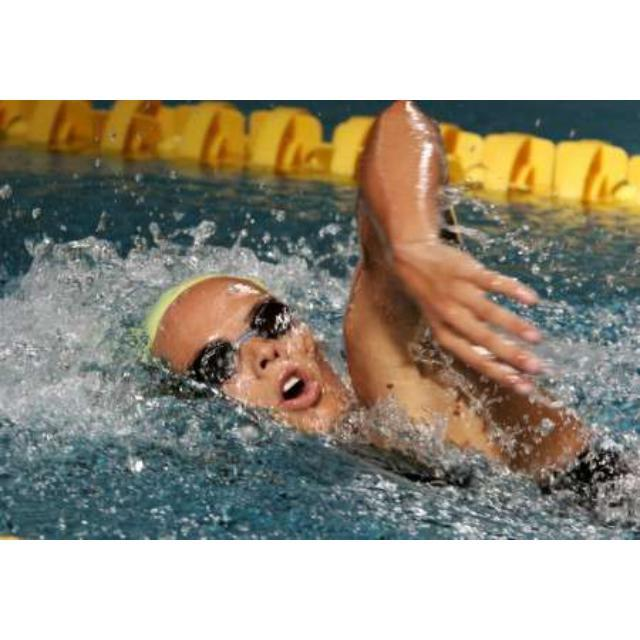human: (145, 102, 612, 493)
